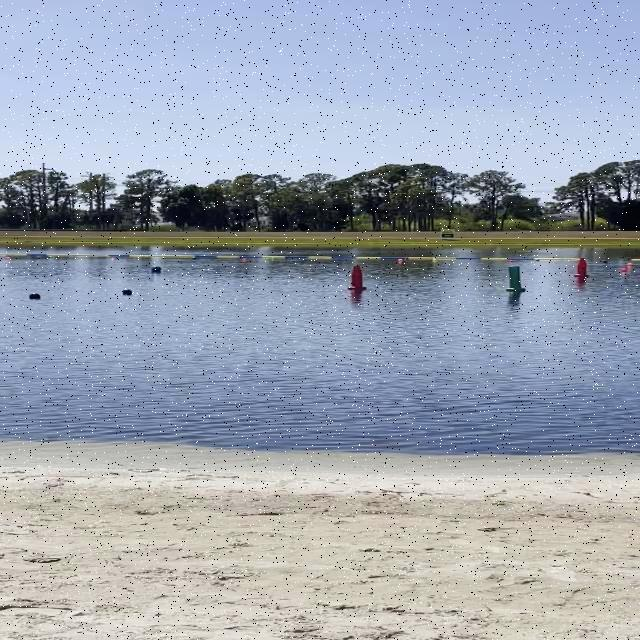buoy: (28, 292, 40, 299), (151, 265, 162, 272), (123, 288, 132, 294), (626, 262, 632, 266), (622, 267, 626, 272), (398, 258, 403, 262), (508, 259, 514, 262), (432, 258, 436, 261)
